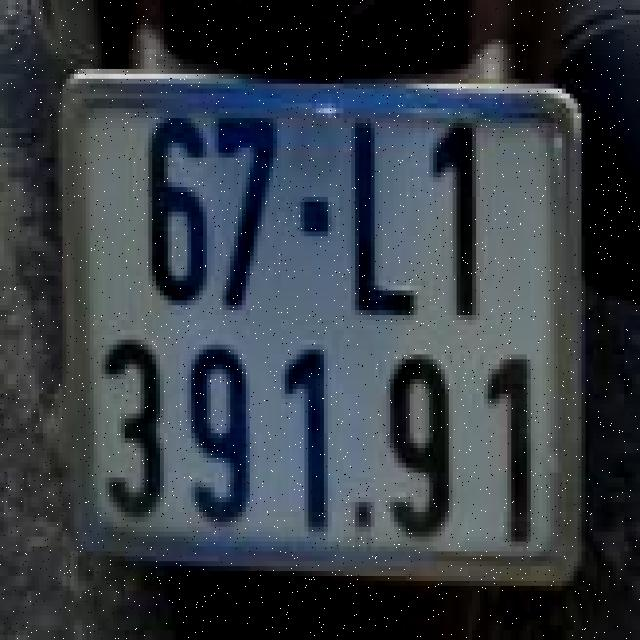1: (478, 344, 548, 546), (435, 103, 494, 325), (281, 342, 343, 549)
3: (82, 338, 168, 524)
6: (138, 103, 216, 320)
7: (213, 96, 275, 322)
9: (175, 332, 258, 534), (378, 344, 456, 552)
L: (328, 103, 418, 320)
